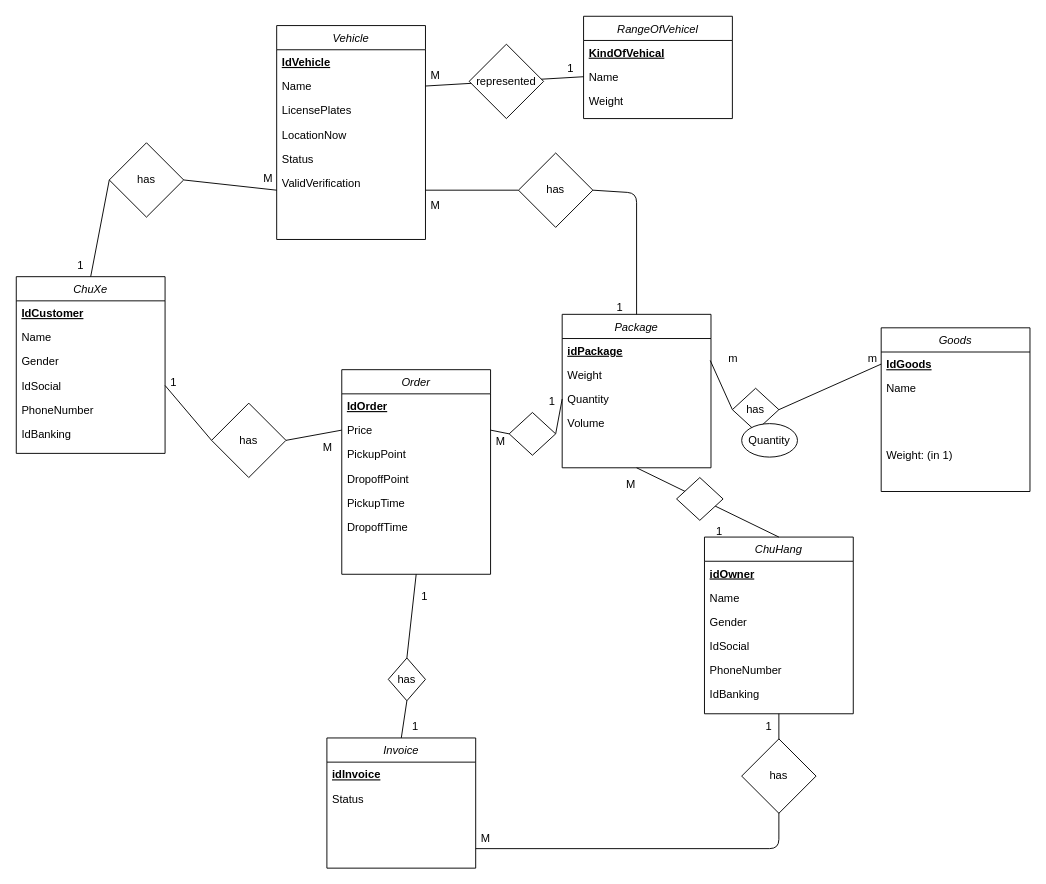
The diagram is 1046 pixels wide and 884 high, and some of its shapes have lost their labels. Each missing label, with the centre of its shape:
in: [532,433]
owned: [699,498]
